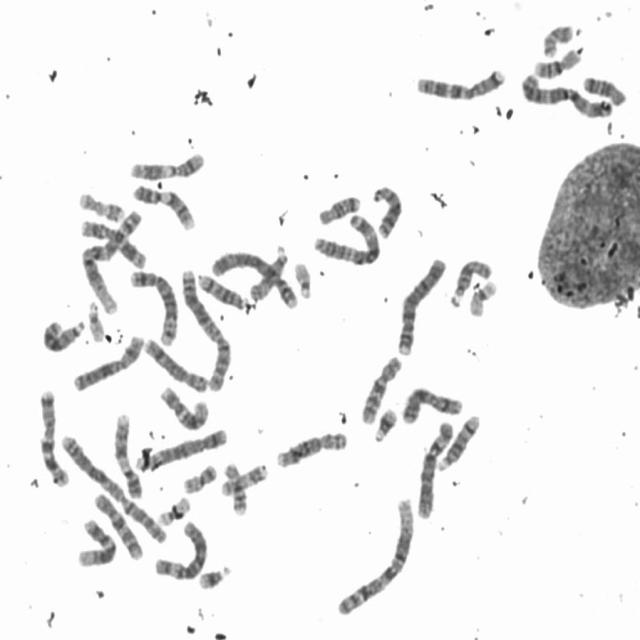A1: (332, 491, 418, 619), (78, 206, 145, 316)
A2: (55, 429, 169, 545), (178, 264, 235, 392)
A3: (518, 68, 615, 119), (310, 210, 383, 266)
B4: (394, 252, 448, 358), (210, 248, 300, 310)
B5: (136, 422, 230, 472), (126, 264, 180, 347)
C10: (90, 488, 145, 562), (358, 351, 404, 426)
C11: (76, 214, 148, 270), (125, 147, 208, 182)
C12: (156, 381, 211, 431), (74, 514, 118, 568)
C6: (414, 416, 457, 521), (150, 516, 210, 581)
C7: (34, 384, 72, 488), (412, 63, 507, 102)
C8: (140, 332, 211, 394), (273, 426, 351, 469)
C9: (129, 179, 197, 231), (110, 408, 144, 499)
D13: (369, 180, 404, 240), (40, 314, 87, 354)
D14: (435, 409, 482, 474), (194, 268, 248, 312)
D15: (246, 240, 289, 304), (446, 254, 494, 308)
E16: (530, 43, 584, 80), (220, 458, 250, 518)
E17: (217, 458, 270, 498), (75, 186, 127, 224)
E18: (579, 70, 628, 107), (315, 190, 363, 227)
F19: (466, 275, 500, 318), (154, 491, 193, 527)
F20: (179, 458, 219, 496), (539, 20, 575, 58)
G21: (194, 560, 233, 591), (370, 403, 399, 443)
G22: (290, 256, 314, 300), (85, 296, 106, 342)
X: (69, 329, 146, 394), (398, 382, 466, 425)
